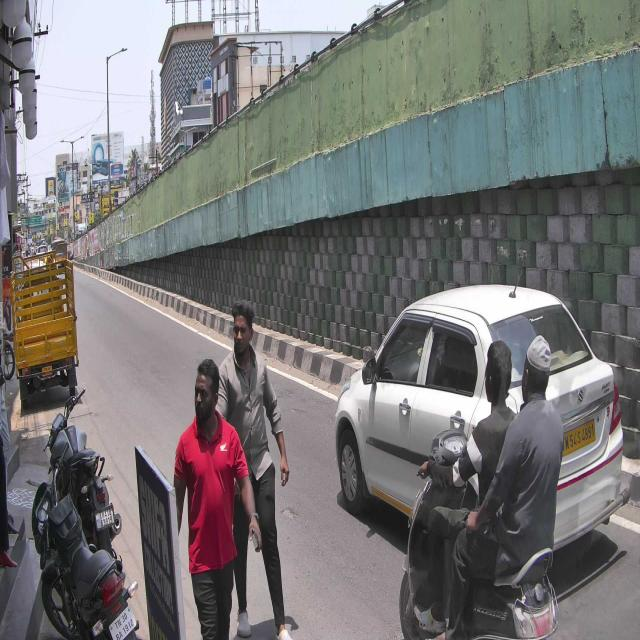double_rider: (399, 332, 564, 640)
